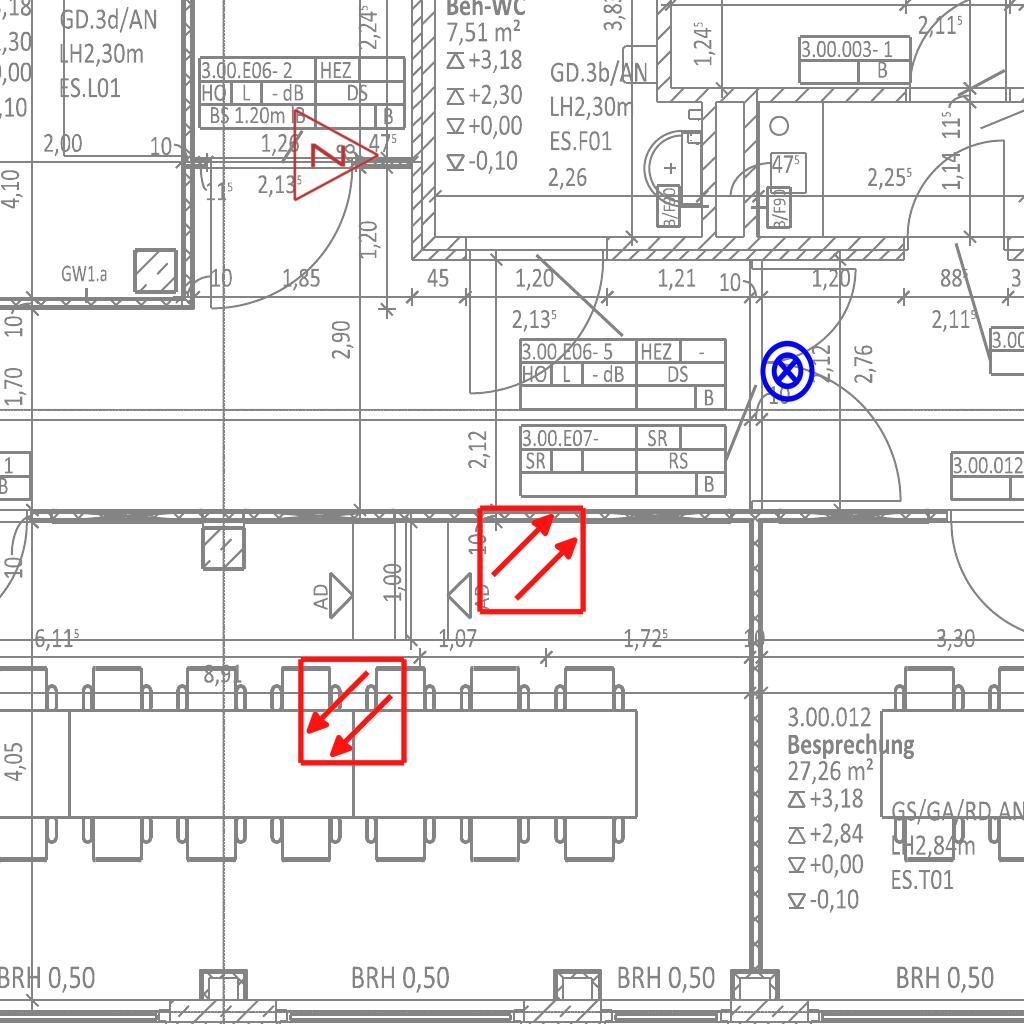RMO_Rauchmelder_optischer: (296, 655, 409, 768), (475, 503, 588, 616)
Taster_beleuchtet: (754, 338, 820, 404)
Zimmersignalleuchte: (286, 105, 386, 203)
